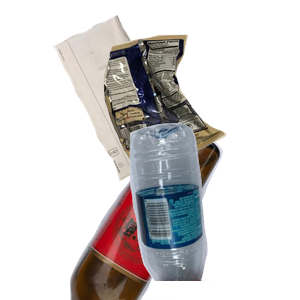glass: (67, 120, 282, 300)
paper: (51, 13, 230, 186)
plastic: (127, 120, 300, 300)
trash: (101, 32, 300, 195)
